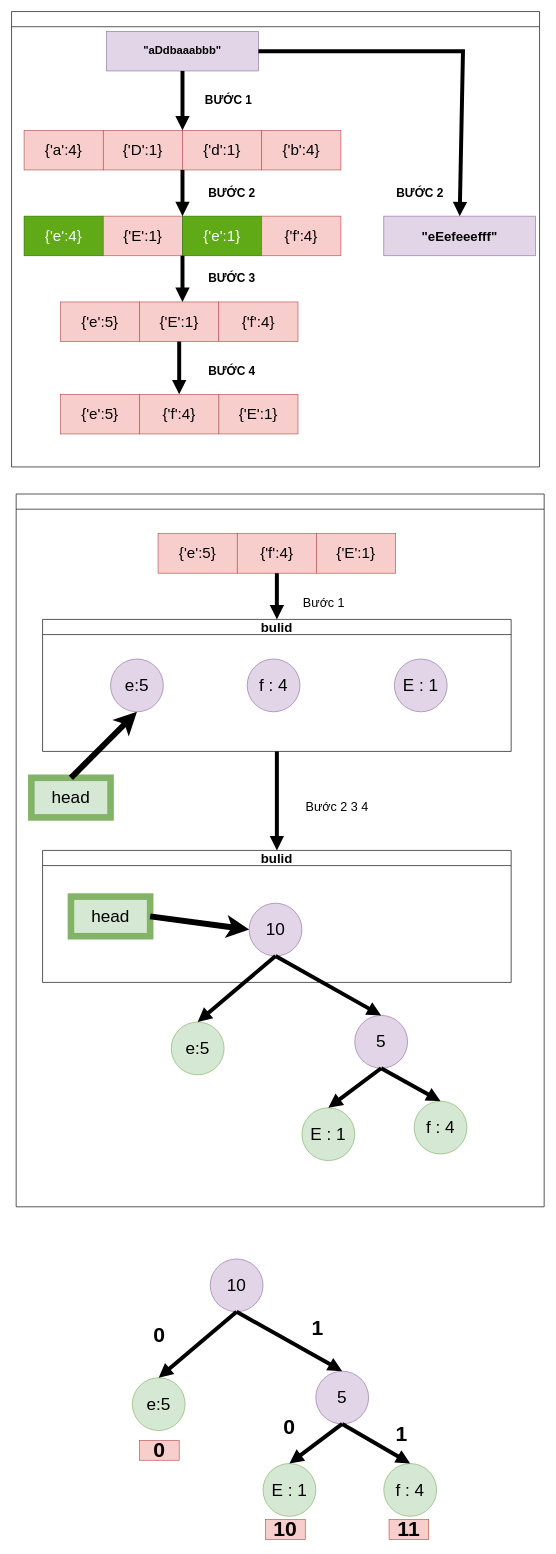
This 556x1554 diagram has some shape labels left out. Each missing label, with the box of its shape:
Phần 1: (11, 11, 540, 467)
Phần 2: (16, 493, 544, 1207)
